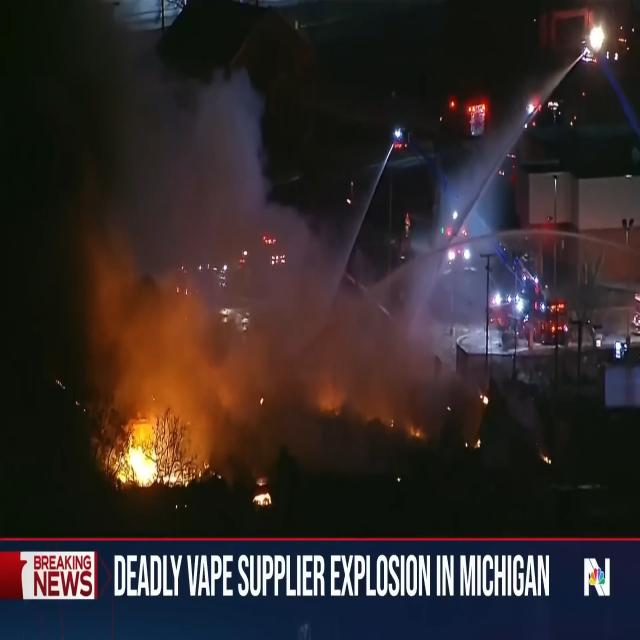fire: (103, 415, 193, 486)
